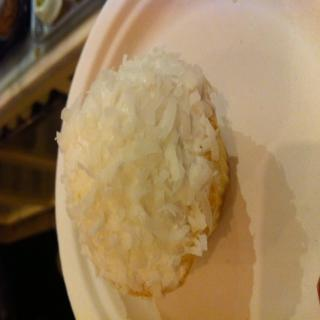Ice cream: (55, 32, 224, 300)
